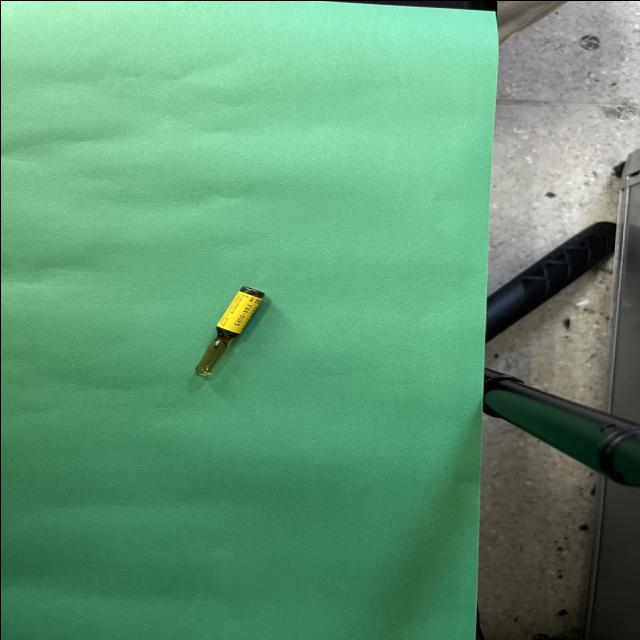Ampoules: (195, 286, 263, 376)
